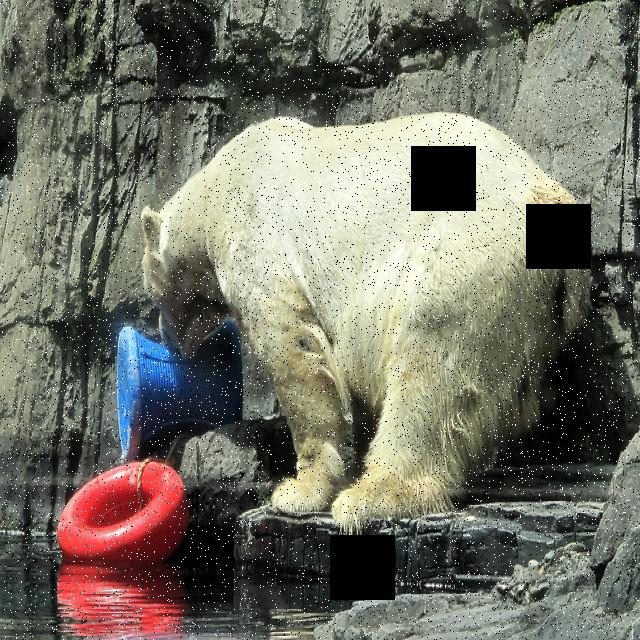Bear: (119, 92, 591, 522)
